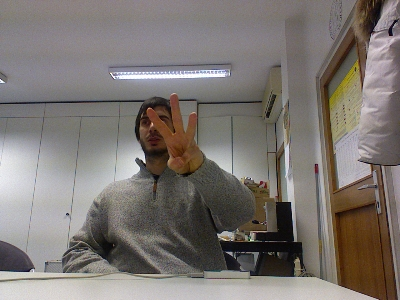三分: (145, 90, 205, 174)
